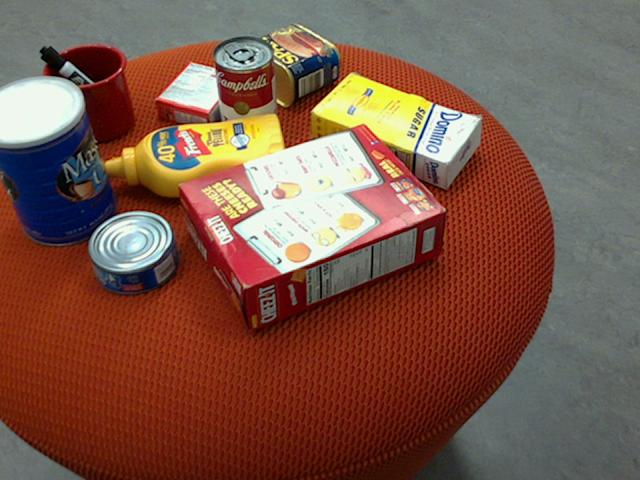cracker_box: (178, 122, 446, 330)
gelatin_box: (154, 60, 244, 129)
large_marker: (39, 46, 130, 125)
master_chef_can: (0, 75, 117, 246)
mug: (30, 44, 134, 142)
mustard_bottle: (105, 113, 288, 197)
potted_meat_can: (238, 24, 341, 107)
sugar_box: (310, 73, 484, 187)
tomato_soup_can: (212, 34, 277, 142)
tuna_fish_can: (87, 211, 179, 295)
